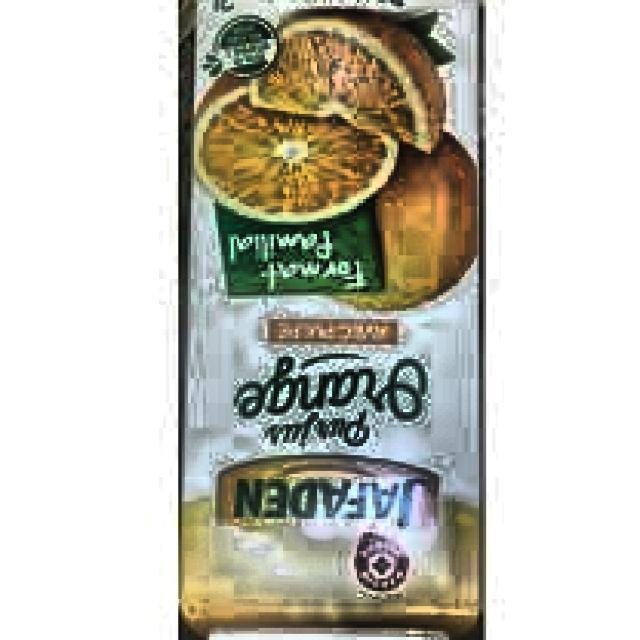cardboard: (178, 0, 490, 640)
